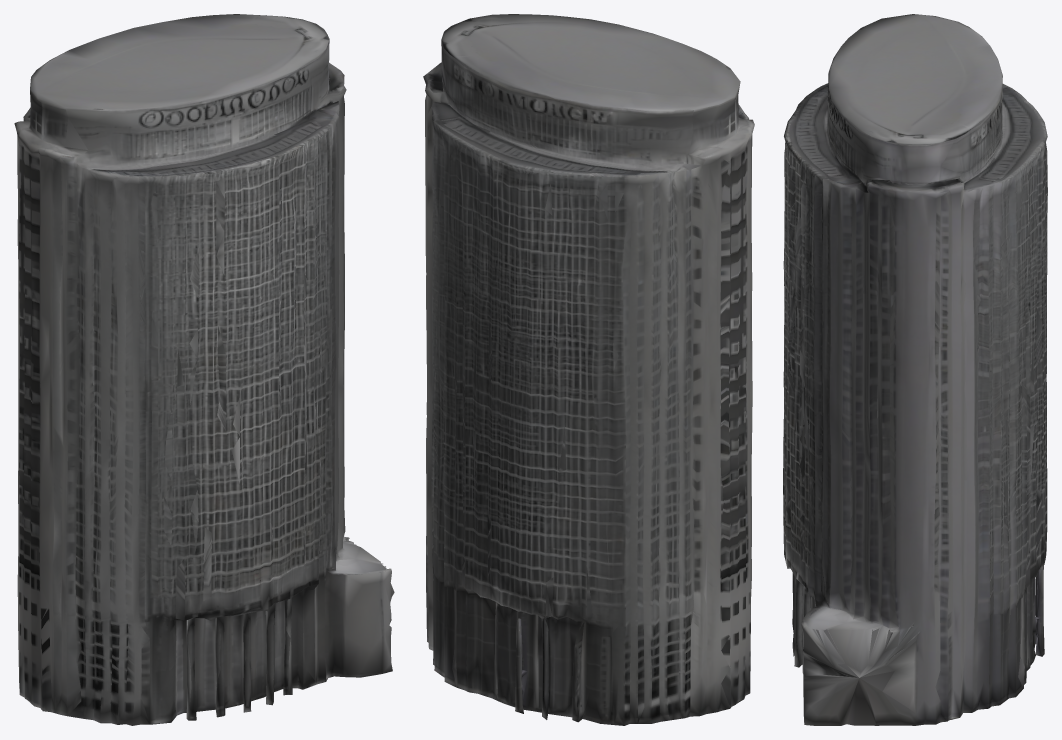
File: tower.fbx
The picture shows the model from 3 angles, left to right: view 1: azimuth 30°, elevation 25°; view 2: azimuth 150°, elevation 25°; view 3: azimuth 270°, elevation 25°; orthographic projection. The views are drawn at different scales.
Visible parts, largest first — view 1: Mesh1.0; view 2: Mesh1.0; view 3: Mesh1.0.
Boxes of the visible parts, x1,y1,x2,y2 form: Mesh1.0: (14,14,394,725); Mesh1.0: (423,14,754,725); Mesh1.0: (783,14,1047,725).
Size of the model in its own units: 61.52 by 115 by 47.7.
